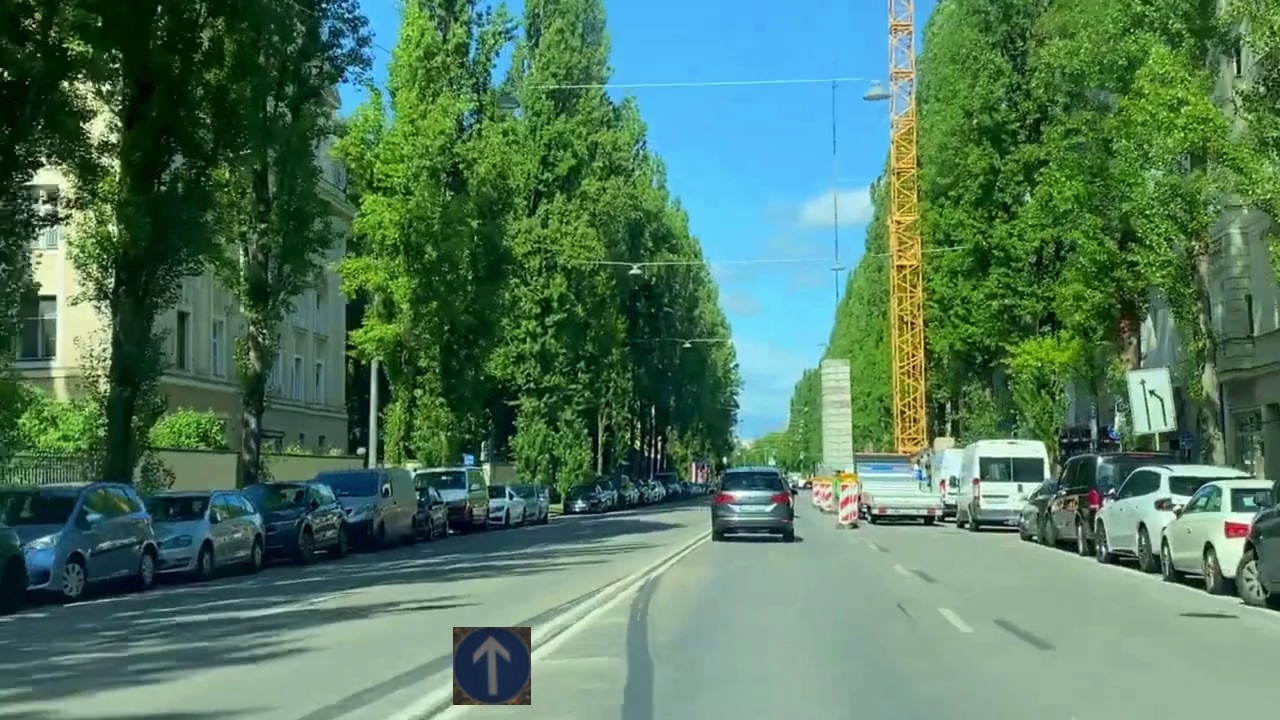Ahead only: (453, 627, 531, 705)
